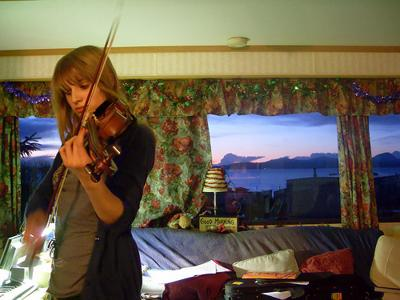person: (25, 46, 156, 300)
